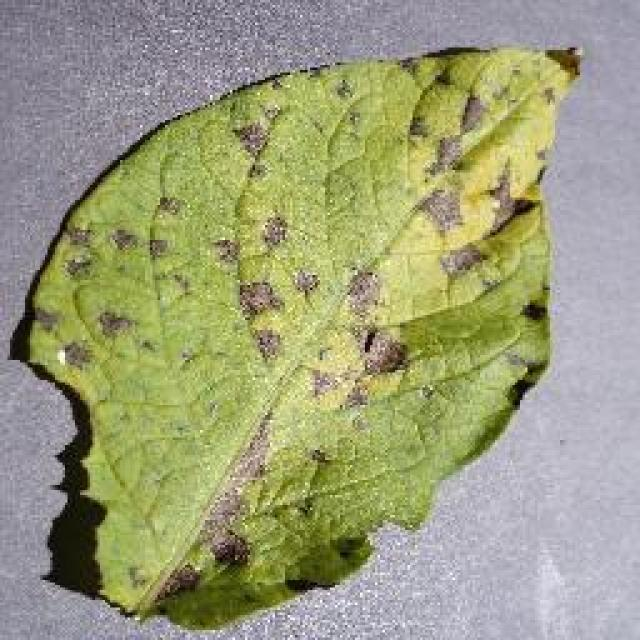early_blight: (12, 38, 588, 632)
